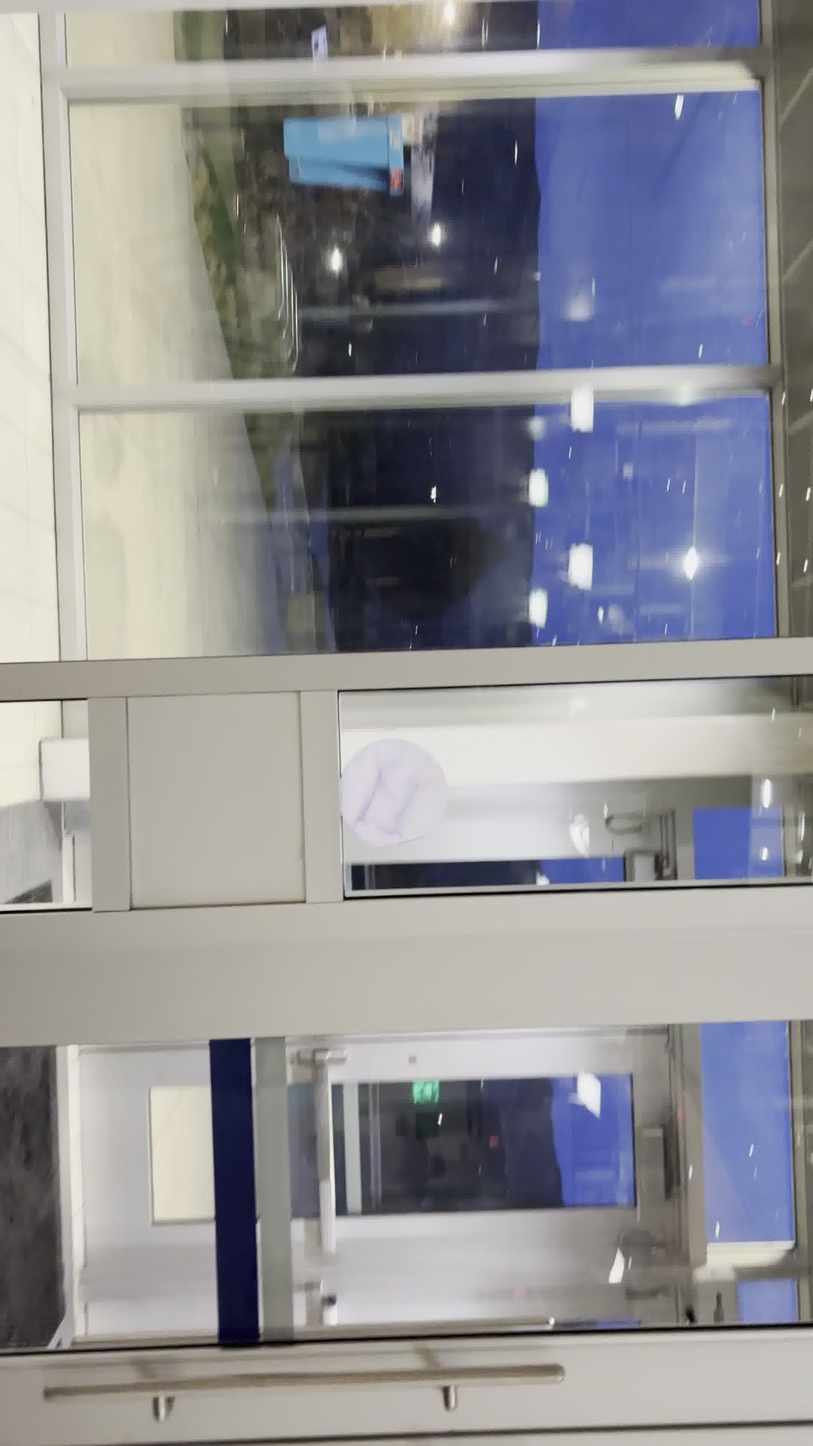Target: (337, 737, 451, 849)
